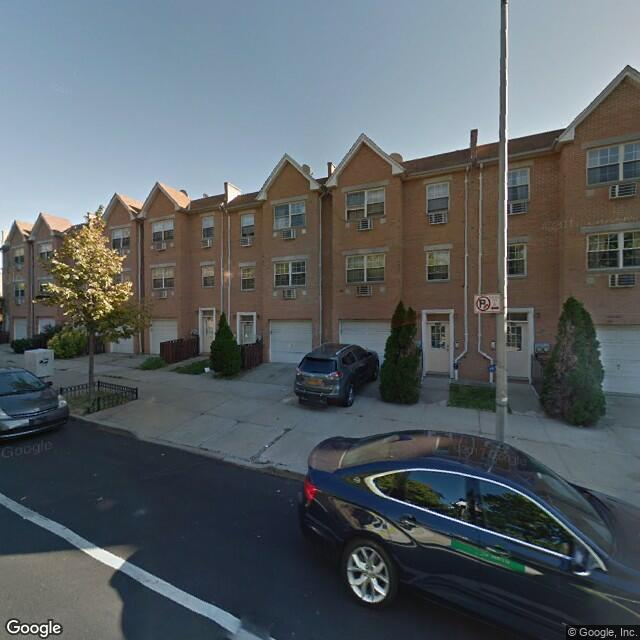litter: (271, 482, 287, 497), (18, 488, 32, 503), (94, 491, 108, 505), (259, 438, 274, 451), (157, 447, 170, 461)
